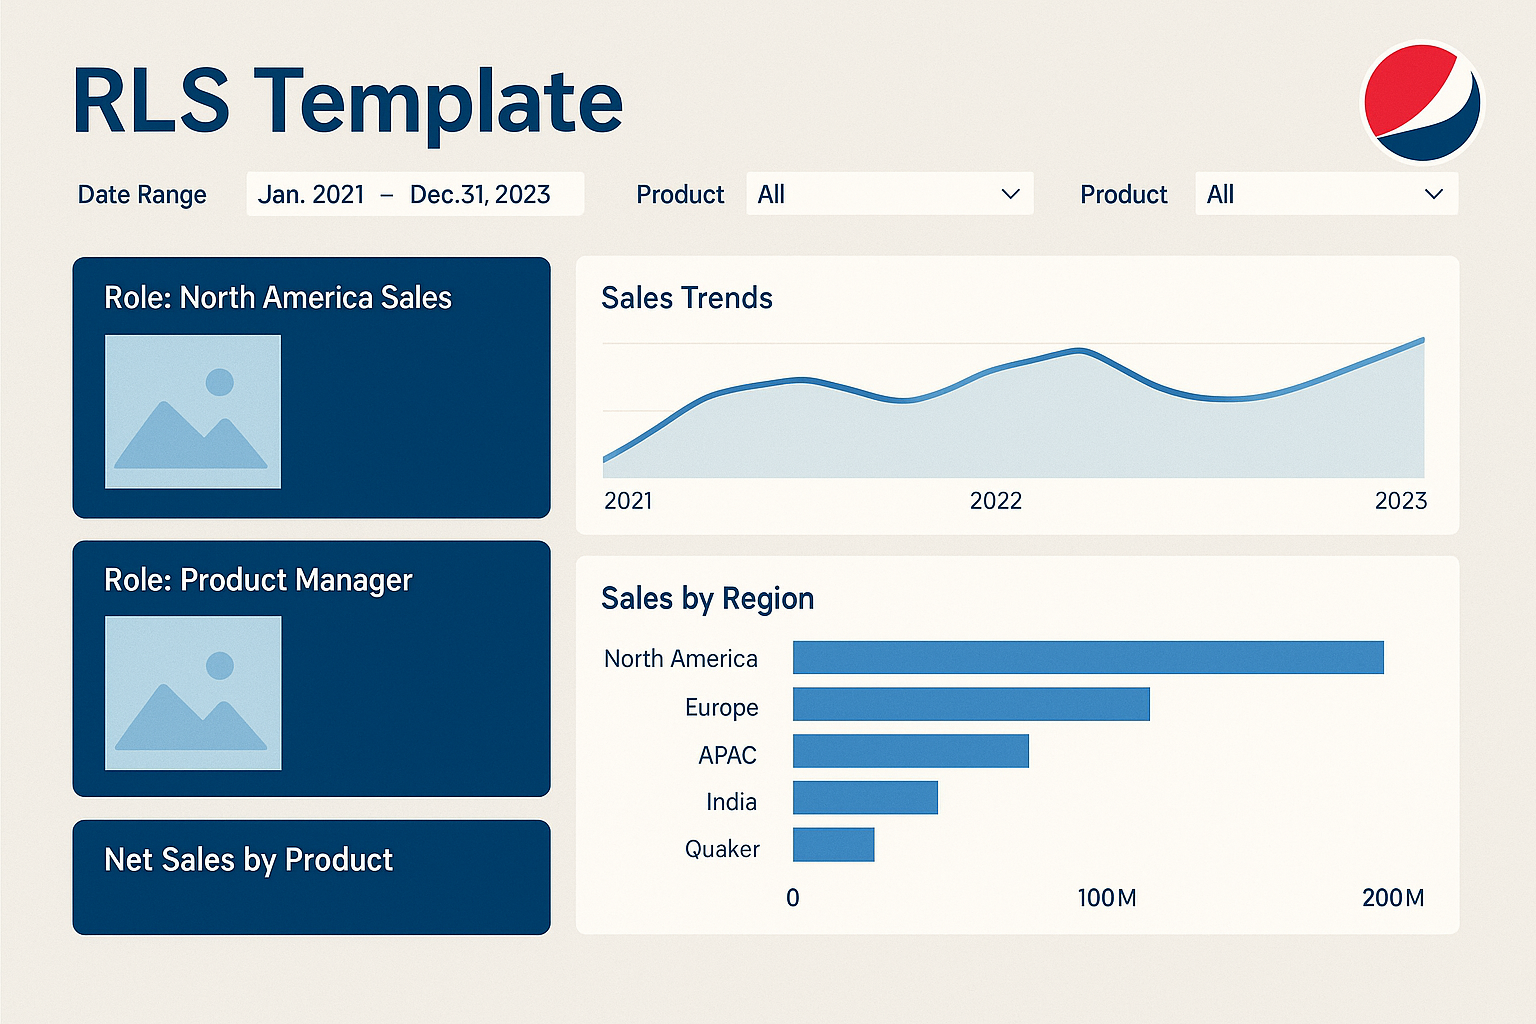

The page's visual inventory and layout, read from the dashboard file:
{"tool":"powerbi","page":{"name":"RLS","canvas":[1280,720],"ordinal":4},"visuals":[{"type":"shape","box":[0,0,1280,720.3],"z":0},{"type":"textbox","box":[82.9,100.9,119.4,37.3],"z":1000},{"type":"slicer","fields":{"Values":["DateTable.Date"]},"box":[202.3,90.9,218.9,56],"z":2000},{"type":"textbox","box":[444.9,100.9,119.4,37.3],"z":3000},{"type":"slicer","title":"Region","fields":{"Values":["PepsiCo_FMCG_Fact.Region"]},"box":[512.1,90.9,223.9,56],"z":4000},{"type":"textbox","box":[736,100.4,143.1,37.3],"z":5000},{"type":"slicer","title":"Region","fields":{"Values":["PepsiCo_FMCG_Dim.ProductName"]},"box":[866.6,90.9,223.9,56],"z":6000},{"type":"shape","box":[0.3,0,1279.7,80.8],"z":7000},{"type":"image","box":[10,0,81.8,80.5],"z":8000},{"type":"textbox","box":[316.3,4.1,647.4,73.9],"z":9000},{"type":"cardVisual","fields":{"Data":["PepsiCo_FMCG_Fact.Total Net Sales"]},"box":[77.4,165.7,222.7,108.2],"z":10000},{"type":"cardVisual","fields":{"Data":["PepsiCo_FMCG_Fact.Total Units Sold"]},"box":[328.1,166,222.7,108.5],"z":11000},{"type":"lineChart","fields":{"Y":["PepsiCo_FMCG_Fact.Total Net Sales"],"Category":["DateTable.Year"]},"box":[77.1,400.6,547.3,222.7],"z":12000},{"type":"clusteredBarChart","fields":{"Category":["PepsiCo_FMCG_Dim.ProductName"],"Y":["PepsiCo_FMCG_Fact.Total Net Sales"]},"box":[689.2,163,547.3,222.7],"z":13000},{"type":"clusteredBarChart","fields":{"Y":["PepsiCo_FMCG_Fact.Total Profit"],"Category":["PepsiCo_FMCG_Dim.ProductName"]},"box":[689.2,400.6,547.3,222.7],"z":14000}]}

Visuals, with their boxes on the page's 1280x720 design canvas (x1, y1, x2, y2). These are canvas units, not pixel positions in the 1536x1024 screenshot, which may show the page scaled, cropped or inside an application window:
shape: [x1=0, y1=0, x2=1280, y2=720]
textbox: [x1=83, y1=101, x2=202, y2=138]
slicer - DateTable.Date: [x1=202, y1=91, x2=421, y2=147]
textbox: [x1=445, y1=101, x2=564, y2=138]
"Region" slicer: [x1=512, y1=91, x2=736, y2=147]
textbox: [x1=736, y1=100, x2=879, y2=138]
"Region" slicer: [x1=867, y1=91, x2=1090, y2=147]
shape: [x1=0, y1=0, x2=1280, y2=81]
image: [x1=10, y1=0, x2=92, y2=80]
textbox: [x1=316, y1=4, x2=964, y2=78]
cardVisual - PepsiCo_FMCG_Fact.Total Net Sales: [x1=77, y1=166, x2=300, y2=274]
cardVisual - PepsiCo_FMCG_Fact.Total Units Sold: [x1=328, y1=166, x2=551, y2=274]
lineChart - PepsiCo_FMCG_Fact.Total Net Sales x DateTable.Year: [x1=77, y1=401, x2=624, y2=623]
clusteredBarChart - PepsiCo_FMCG_Dim.ProductName x PepsiCo_FMCG_Fact.Total Net Sales: [x1=689, y1=163, x2=1236, y2=386]
clusteredBarChart - PepsiCo_FMCG_Fact.Total Profit x PepsiCo_FMCG_Dim.ProductName: [x1=689, y1=401, x2=1236, y2=623]
